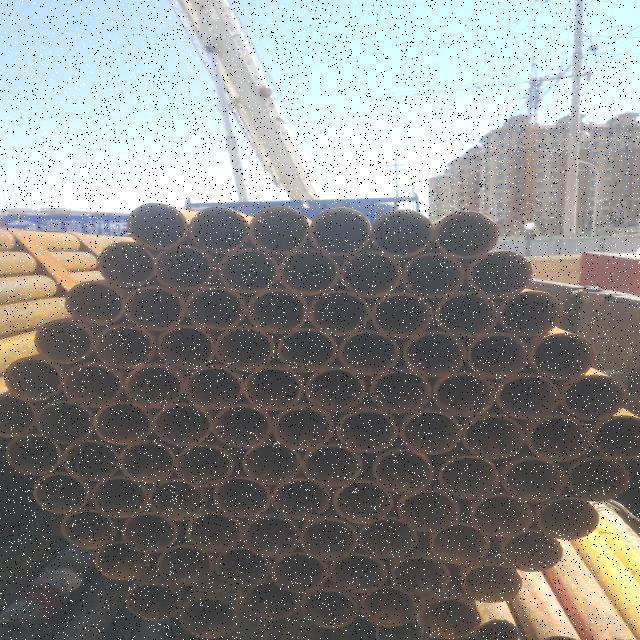pipe: (432, 208, 502, 260), (306, 206, 374, 258), (433, 290, 503, 340), (524, 414, 594, 464), (467, 248, 535, 299), (184, 203, 250, 255), (370, 207, 436, 259), (528, 331, 596, 381), (560, 373, 628, 423), (123, 200, 189, 250), (246, 205, 312, 255), (216, 245, 282, 295), (304, 288, 370, 338), (402, 329, 468, 379), (276, 246, 341, 296), (430, 369, 496, 418), (152, 242, 214, 294), (340, 249, 404, 299), (336, 328, 400, 378), (466, 331, 530, 381), (334, 407, 402, 454), (121, 362, 186, 411), (402, 252, 468, 300), (498, 290, 564, 338), (301, 366, 367, 414), (244, 286, 308, 335), (368, 290, 432, 339), (499, 457, 567, 503), (394, 488, 462, 534), (398, 410, 463, 458), (183, 284, 247, 332), (240, 364, 304, 412), (496, 374, 560, 422), (568, 454, 632, 502), (121, 285, 186, 332), (210, 326, 276, 372), (366, 368, 432, 414), (147, 402, 213, 448), (469, 493, 535, 539), (274, 327, 338, 374), (462, 414, 526, 461), (372, 448, 436, 495), (62, 279, 124, 327), (93, 322, 155, 370), (61, 362, 123, 410), (534, 496, 600, 541), (269, 406, 333, 452), (300, 442, 364, 488), (437, 454, 501, 500), (331, 479, 395, 525), (427, 521, 491, 567), (180, 365, 243, 411), (96, 241, 156, 289), (33, 318, 93, 366), (210, 404, 274, 449), (153, 325, 215, 371), (2, 357, 64, 403), (90, 401, 152, 447), (172, 444, 235, 488), (498, 531, 564, 573), (34, 400, 94, 446), (238, 442, 300, 486), (210, 475, 272, 519), (239, 514, 299, 559), (298, 517, 358, 562), (419, 597, 483, 639), (61, 438, 121, 482), (116, 440, 176, 484), (88, 475, 148, 519), (146, 478, 206, 522), (58, 507, 118, 551), (356, 518, 418, 560), (389, 555, 451, 597), (177, 597, 239, 639), (270, 478, 330, 521), (120, 511, 180, 554), (4, 433, 62, 477), (32, 471, 90, 515), (154, 544, 214, 586), (268, 552, 328, 594), (327, 552, 387, 594), (123, 580, 183, 622), (242, 580, 302, 622), (358, 586, 418, 628), (184, 511, 242, 554), (460, 563, 522, 603), (92, 540, 152, 581), (212, 547, 270, 589), (300, 588, 358, 630), (596, 413, 640, 464), (0, 392, 37, 439), (470, 617, 520, 639)
